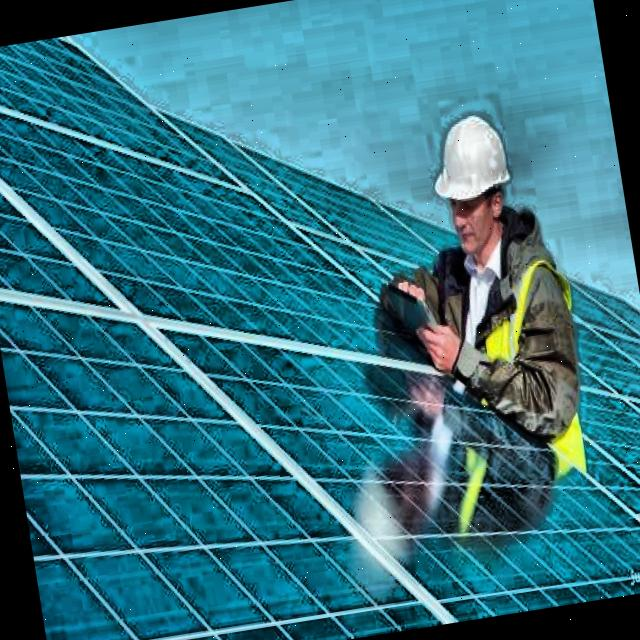helmet: (421, 92, 528, 270)
